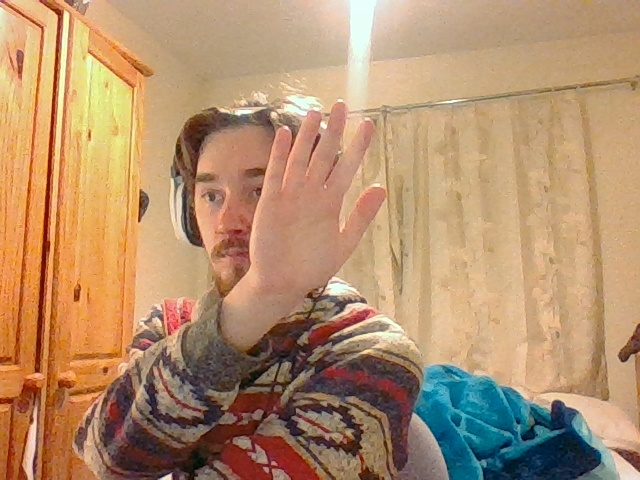hello: (246, 100, 387, 301)
